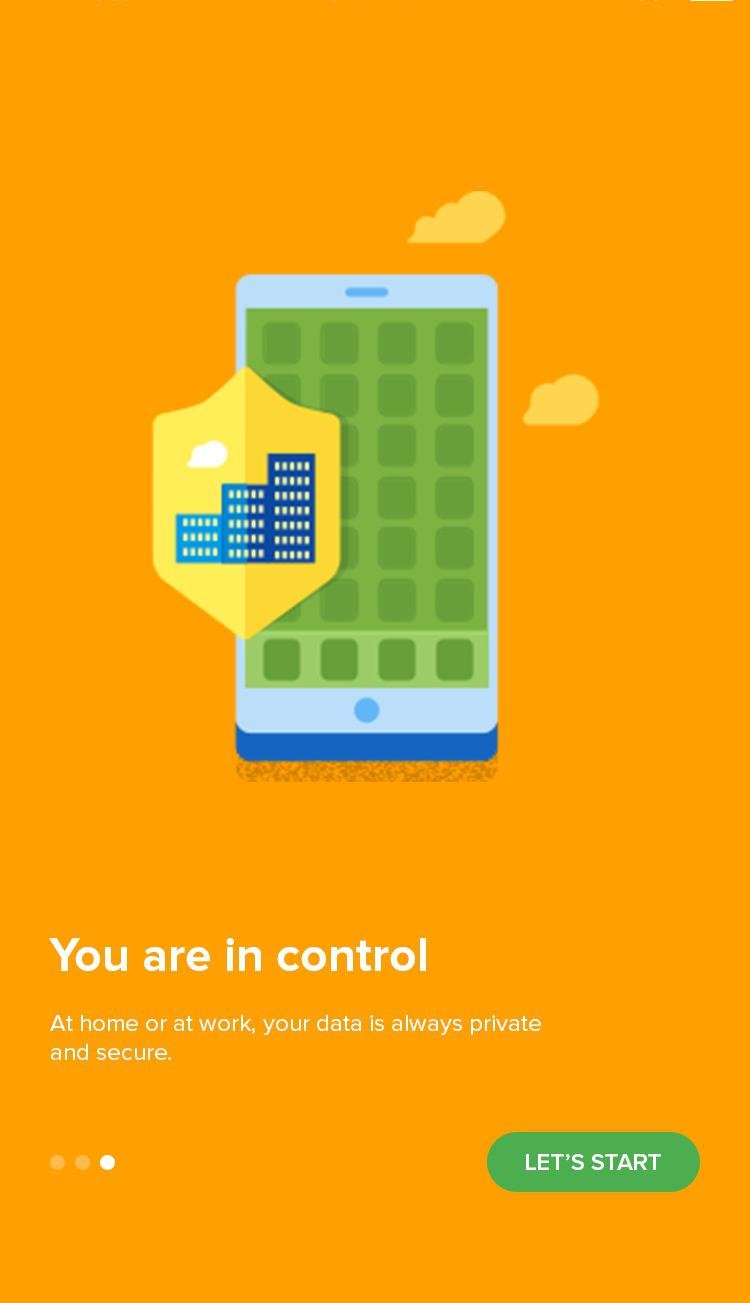Image: (148, 188, 602, 783)
PageIndicator: (48, 1153, 118, 1173)
Text: (49, 1013, 543, 1063), (48, 936, 429, 975)
TextButton: (487, 1131, 701, 1193)
